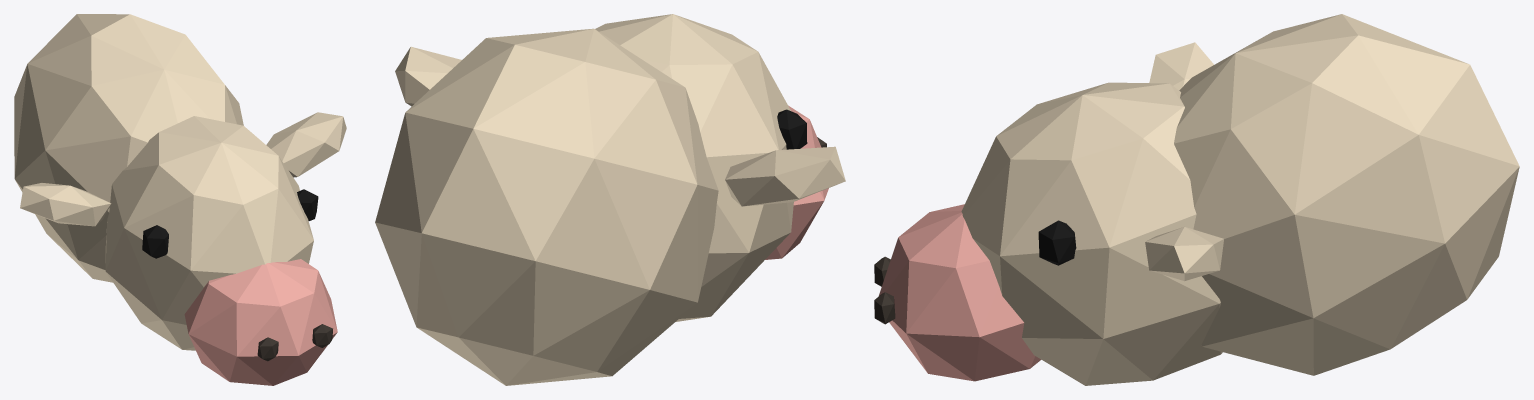
Rendered from calf_1_head.glb.
The picture shows the model from 3 angles, left to right: view 1: azimuth 30°, elevation 25°; view 2: azimuth 150°, elevation 25°; view 3: azimuth 270°, elevation 25°; orthographic projection. The views are drawn at different scales.
Visible parts, largest first — view 1: calf_1_head; view 2: calf_1_head; view 3: calf_1_head.
Boxes of the visible parts, x1,y1,x2,y2 form: calf_1_head: (14,14,346,385); calf_1_head: (375,14,845,385); calf_1_head: (874,14,1519,385).
Bounding box in the file's own units: 0.394 × 0.296 × 0.5032.
